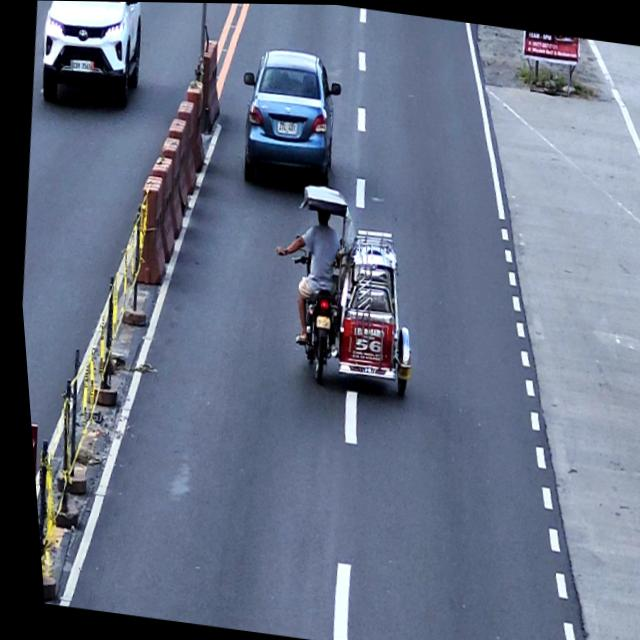Car: (228, 43, 350, 195), (30, 0, 152, 114)
License-Plate: (273, 118, 297, 135), (69, 57, 92, 73), (309, 313, 326, 329)
Tricycle: (269, 182, 426, 398)
